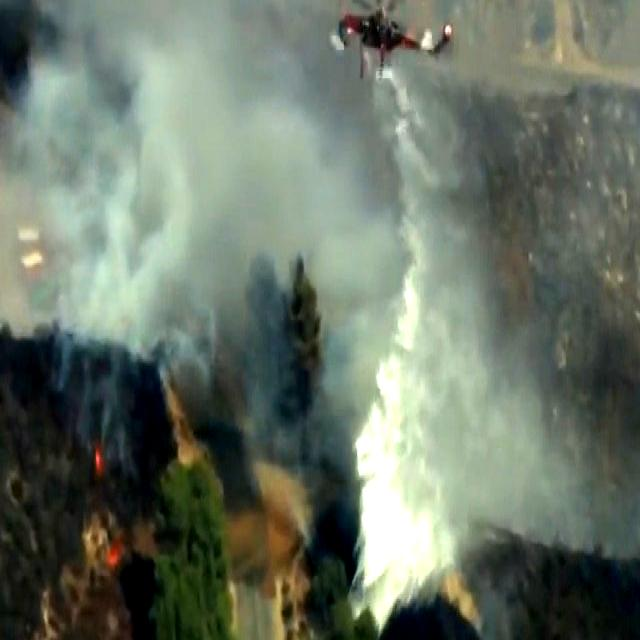smoke: (117, 21, 251, 266)
